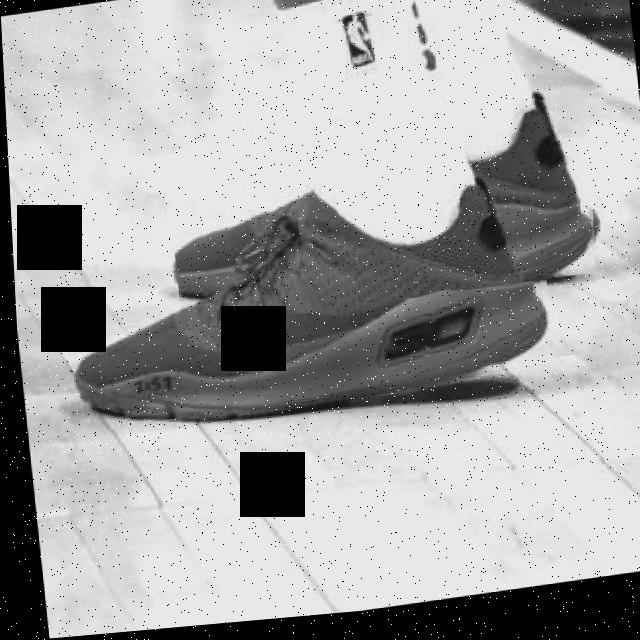shoe: (53, 161, 553, 436), (161, 98, 603, 334)
